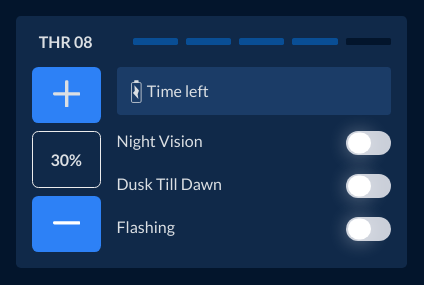
Lamp.cy.js › Increase power › Should increase the % when the button is pressed and response is ok
The image size is (424, 285).
Click the 1st button with class "lamp-power__button" at (67, 95), box [32,67,101,123]
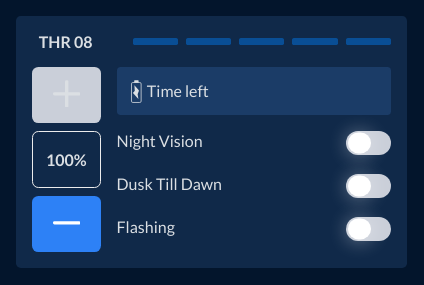
Now the text with class "lamp-power__power-display" reads "100%", box [32,131,101,187]
